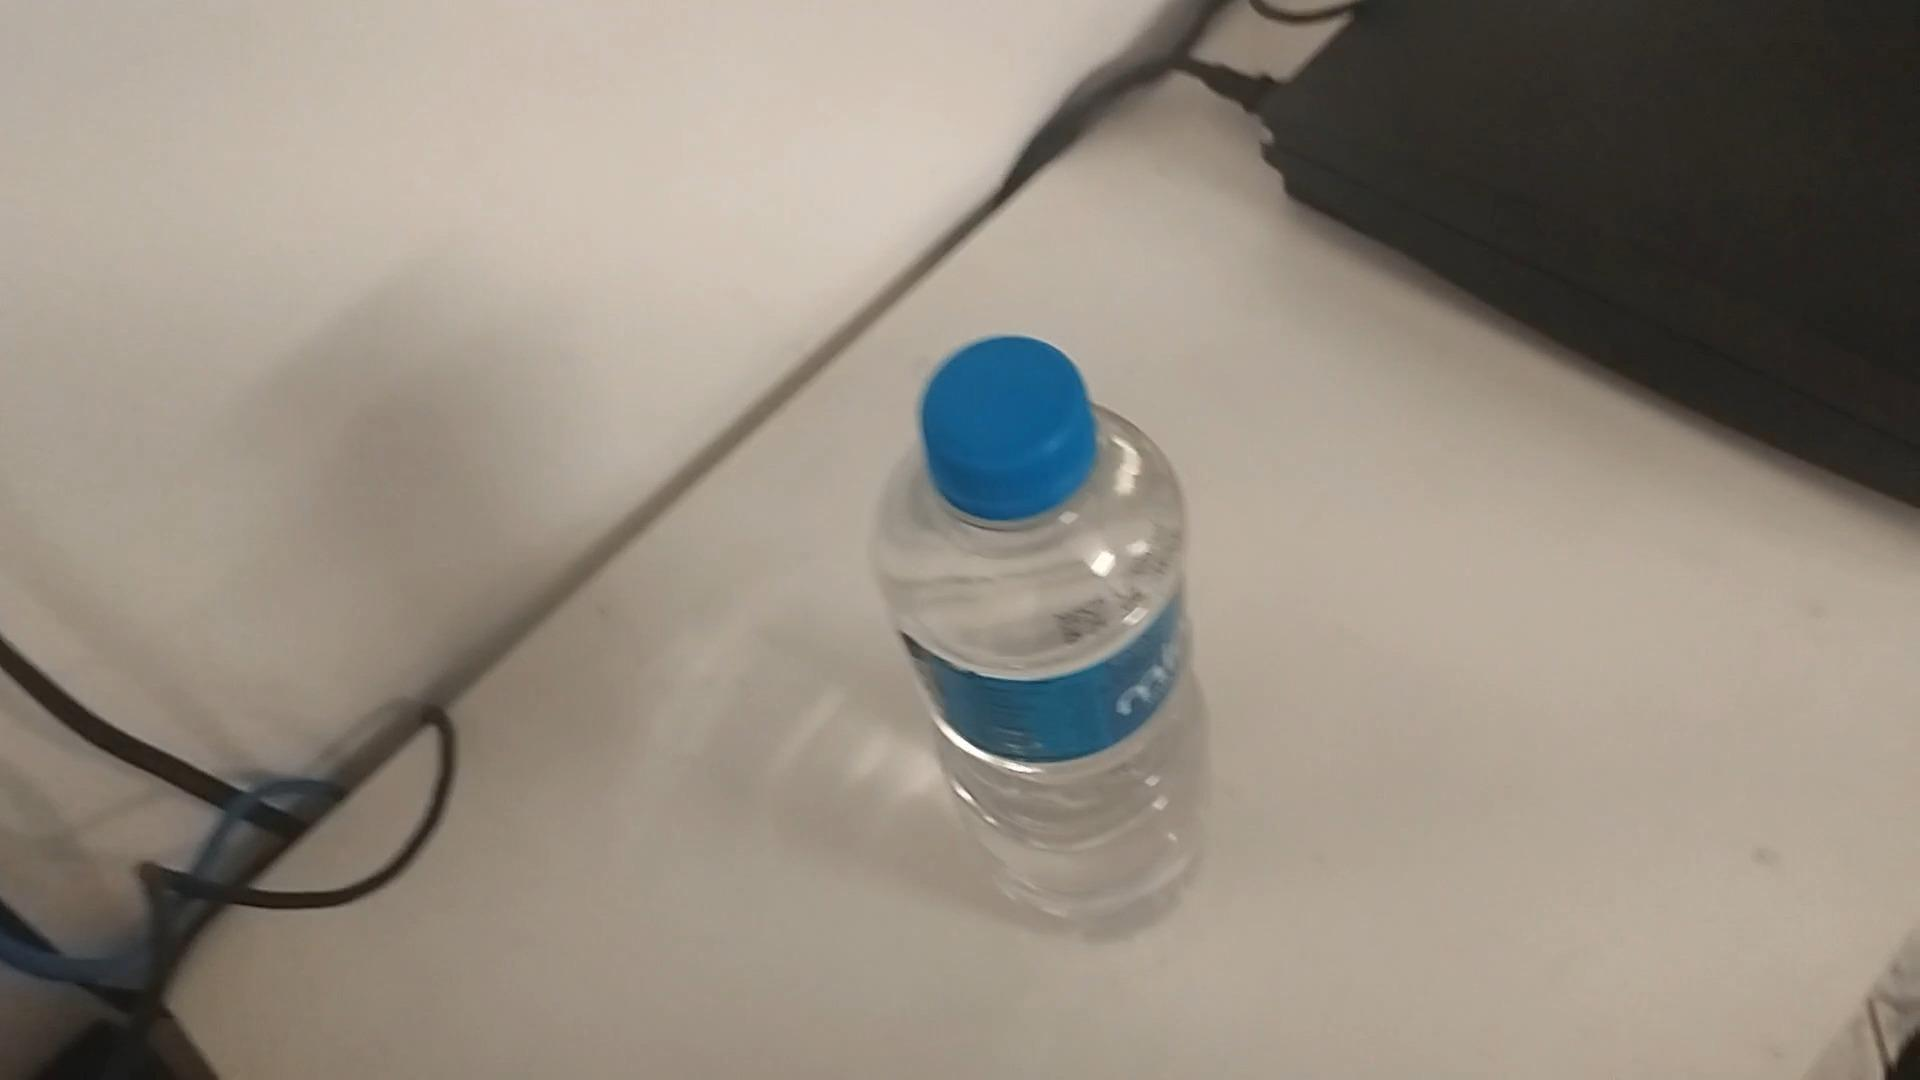agua: (873, 331, 1195, 923)
